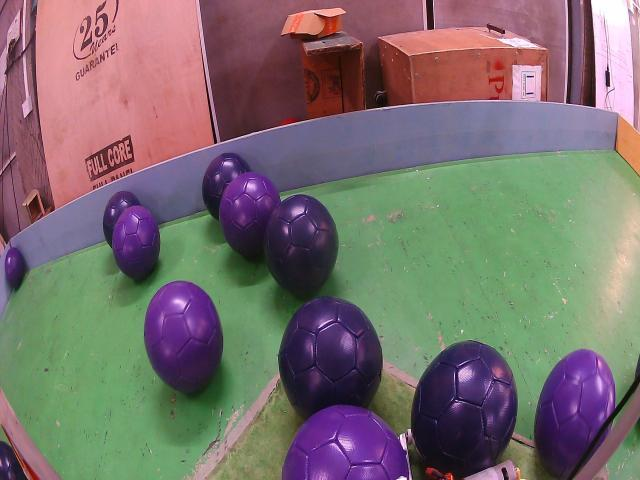jambhalya: (534, 348, 615, 478), (282, 405, 410, 480), (144, 280, 222, 392), (219, 172, 280, 258), (111, 205, 160, 280), (5, 247, 25, 288)
kaalyya: (411, 340, 518, 477), (279, 297, 382, 418), (264, 193, 339, 297), (202, 153, 250, 218), (102, 190, 140, 247)
